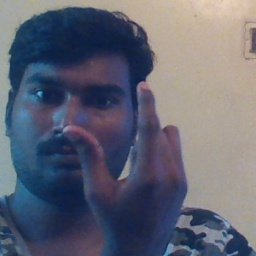U: (69, 75, 190, 228)
